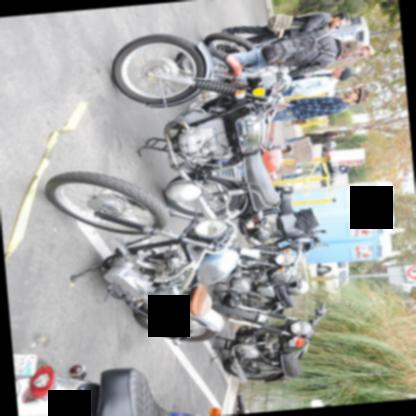backpack: (259, 30, 337, 66)
handbag: (266, 12, 330, 36), (294, 208, 320, 232)
